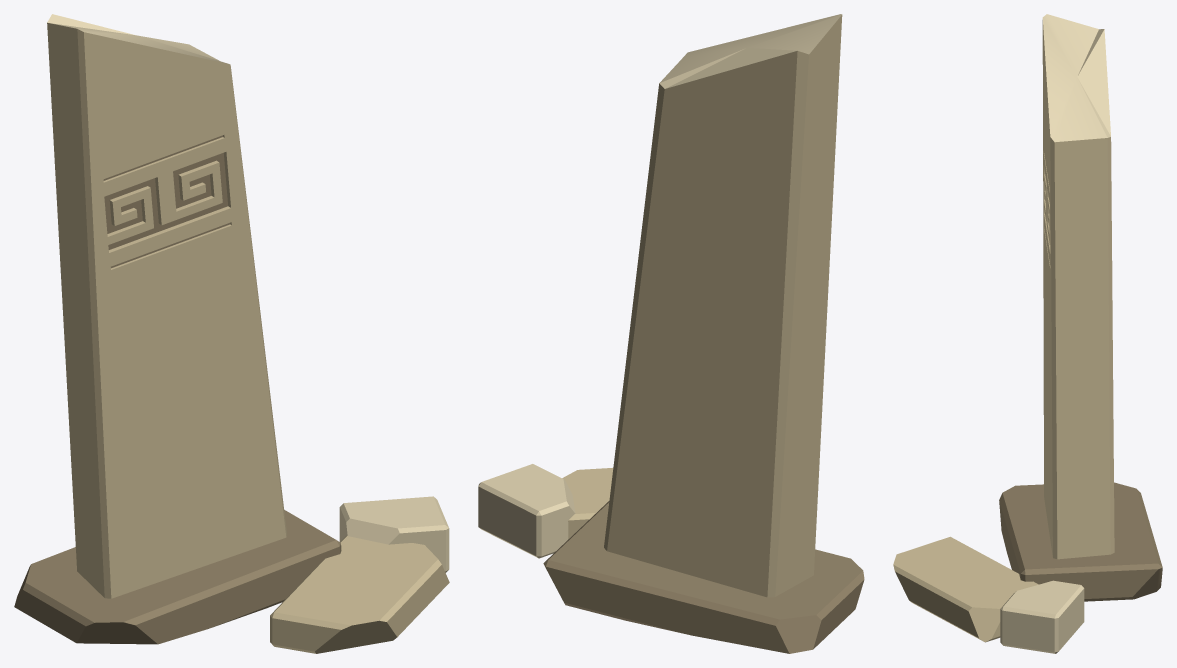
File: stele-1.glb
3 views of the same model, side by side, from view 1: azimuth 30°, elevation 25°; view 2: azimuth 150°, elevation 25°; view 3: azimuth 270°, elevation 25° (orthographic). The views are drawn at different scales.
Parts seen in each view (by area): view 1: stele-1; view 2: stele-1; view 3: stele-1.
Part boxes in pixels (left/top/right/bottom): stele-1: left=14, top=14, right=449, bottom=653; stele-1: left=478, top=14, right=864, bottom=653; stele-1: left=893, top=14, right=1162, bottom=653.
Size of the model in its own units: 1.21 by 1.84 by 0.9047.
